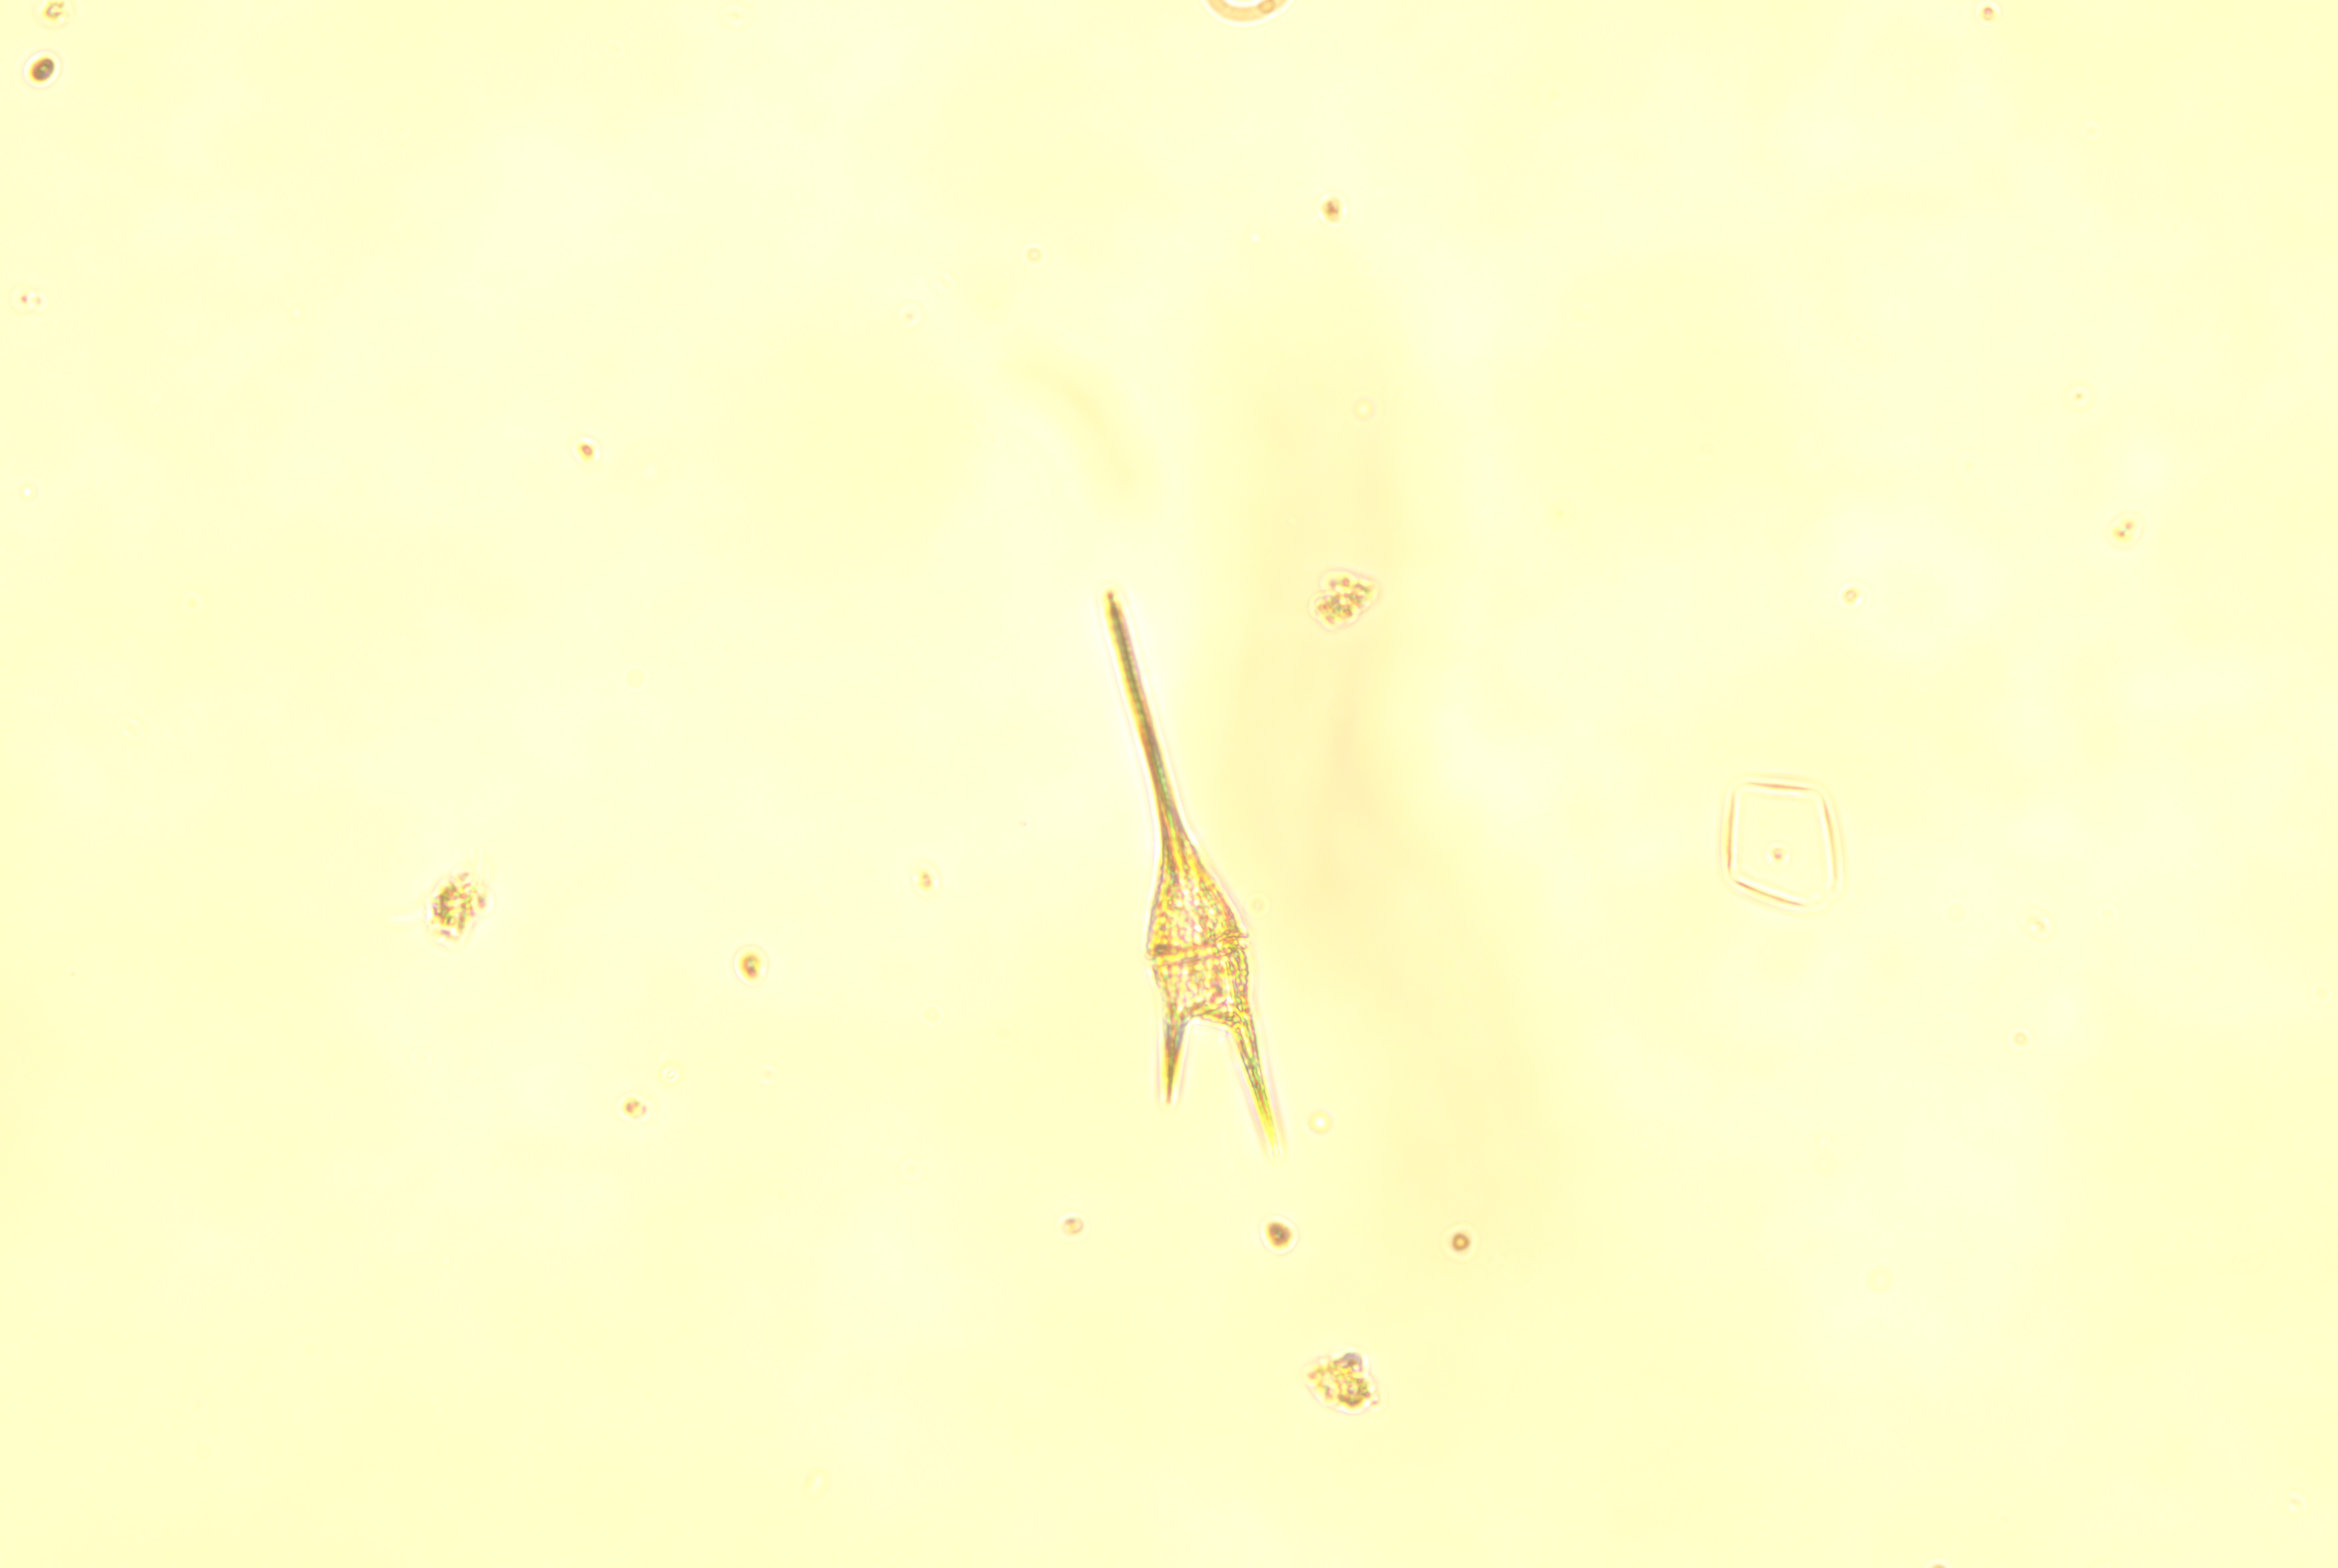ceratium furca: (1104, 590, 1279, 1143)
